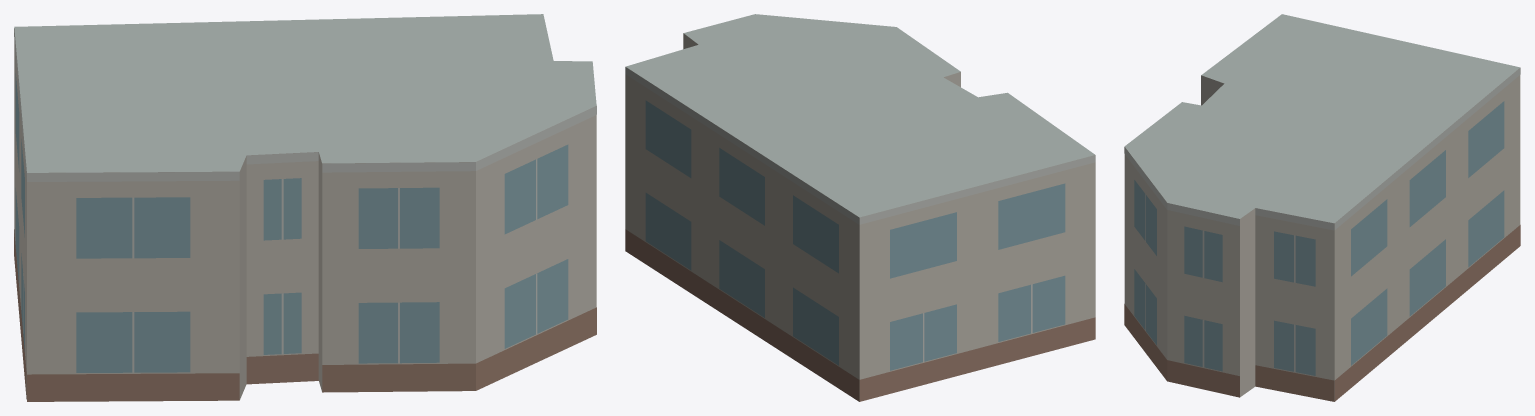
Rendered from survey-upis-32812860.glb.
3 renders of one model, left to right at view 1: azimuth 30°, elevation 25°; view 2: azimuth 150°, elevation 25°; view 3: azimuth 270°, elevation 25°, orthographic. The views are drawn at different scales.
Visible parts, largest first — view 1: survey-upis-32812860.tmp; view 2: survey-upis-32812860.tmp; view 3: survey-upis-32812860.tmp.
Boxes of the visible parts, bbox=[...] form: survey-upis-32812860.tmp: bbox=[14, 14, 596, 401]; survey-upis-32812860.tmp: bbox=[625, 14, 1095, 401]; survey-upis-32812860.tmp: bbox=[1124, 14, 1520, 401].
Size of the model in its own units: 15.35 by 6.1 by 12.27.
